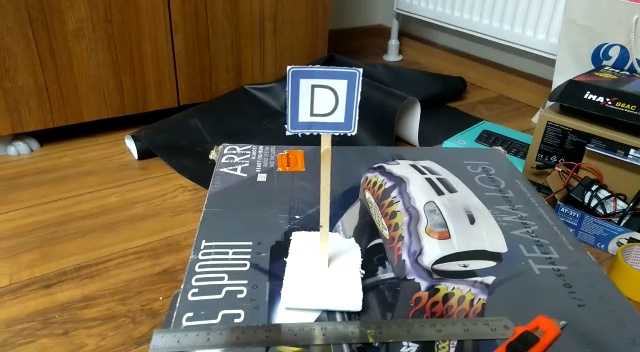durak: (280, 60, 370, 138)
